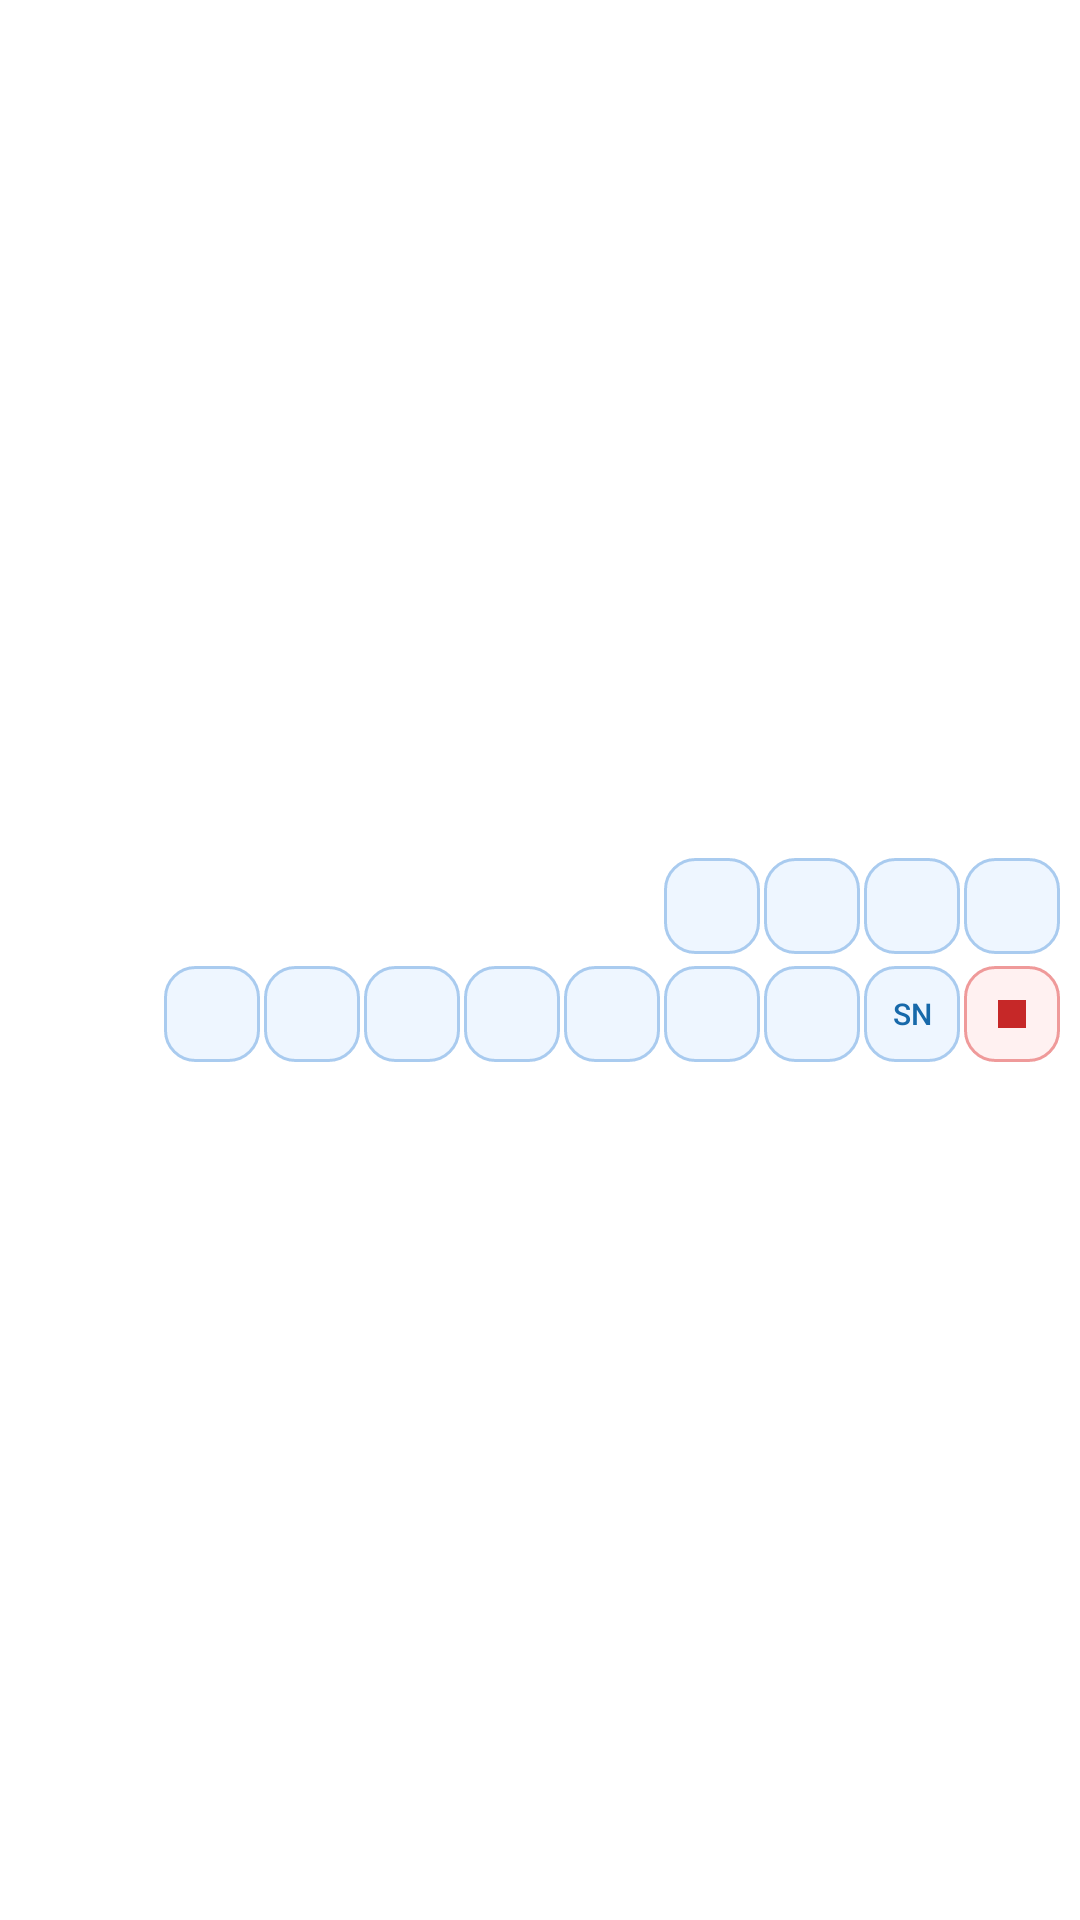

Named icons in this screenshot (1080px x 1920px) and their bounding boxes, (x1, y1, x2, y2):
Stop alarm sound: (964, 966, 1060, 1062)
